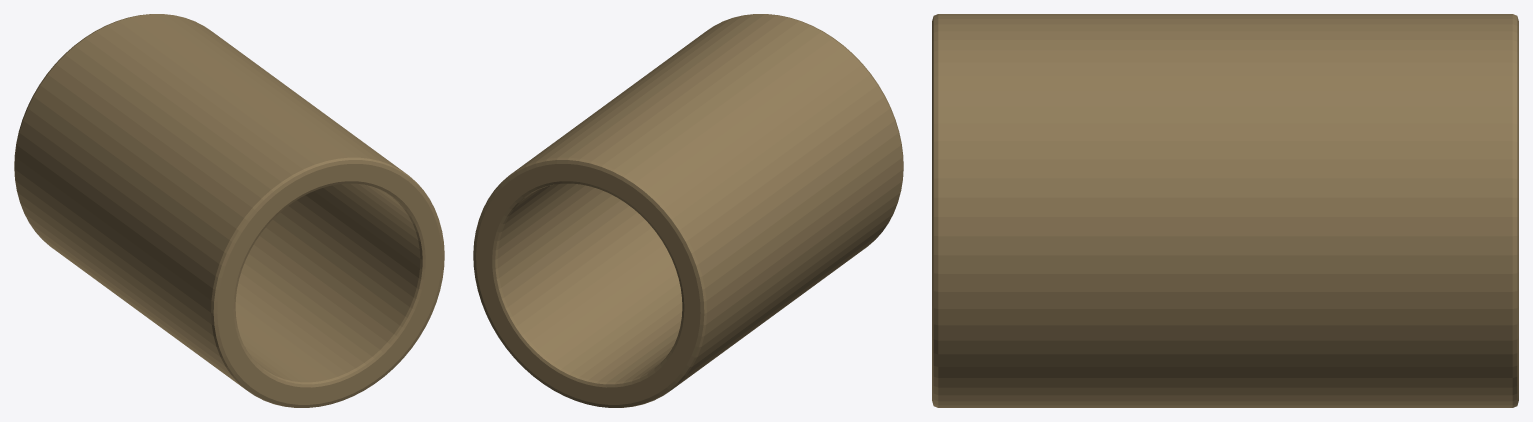
Rendered from 3-backwheel.dae.
3 renders of one model, left to right at view 1: azimuth 30°, elevation 25°; view 2: azimuth 150°, elevation 25°; view 3: azimuth 270°, elevation 25°, orthographic. The views are drawn at different scales.
Visible parts, largest first — view 1: Mesh_0; view 2: Mesh_0; view 3: Mesh_0.
Boxes of the visible parts, x1,y1,x2,y2 form: Mesh_0: (14,14,444,407); Mesh_0: (473,14,903,407); Mesh_0: (932,14,1518,407).
Size of the model in its own units: 0.0698 by 0.1039 by 0.0698.
